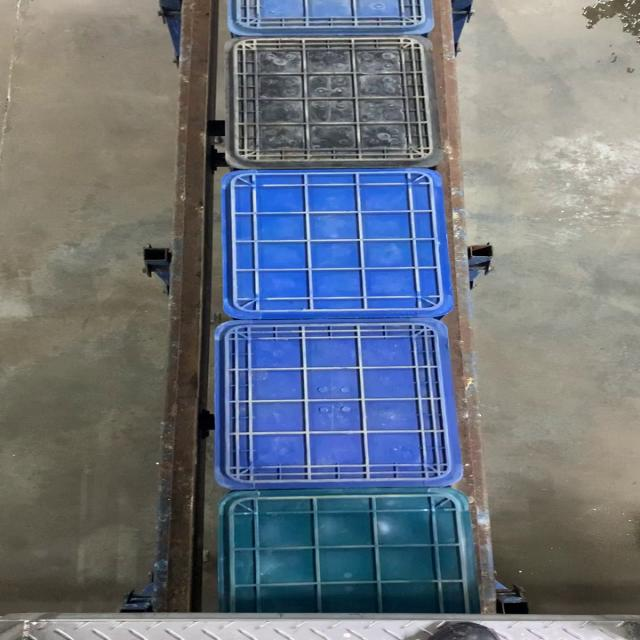Blue: (210, 320, 467, 492)
Box: (224, 166, 451, 320), (223, 33, 448, 167)
